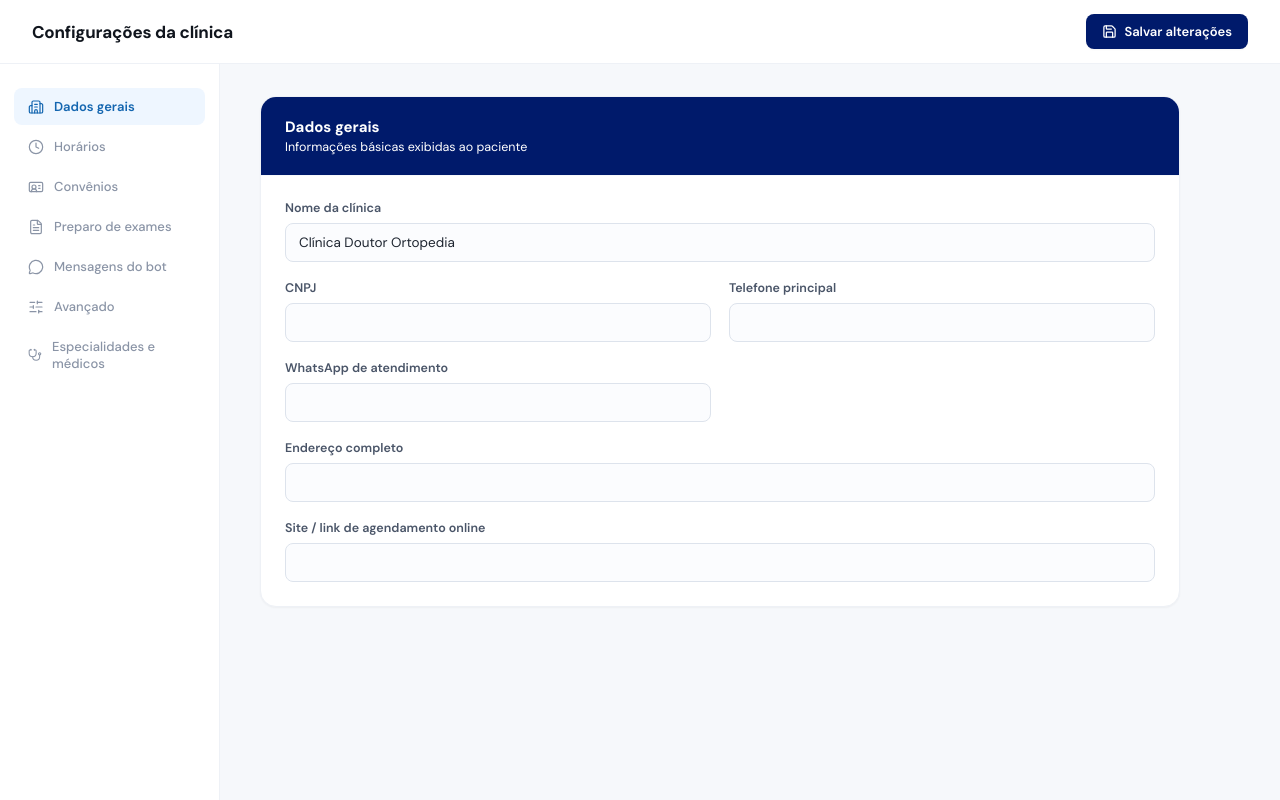
Scenario: ClinicConfig › mostra o valor da consulta de cada médico
Check: the text "Configurações da clínica" is shown, box [32, 20, 233, 42]
Click the text "Especialidades e médicos": coordinates (92, 355) [28, 338, 155, 372]
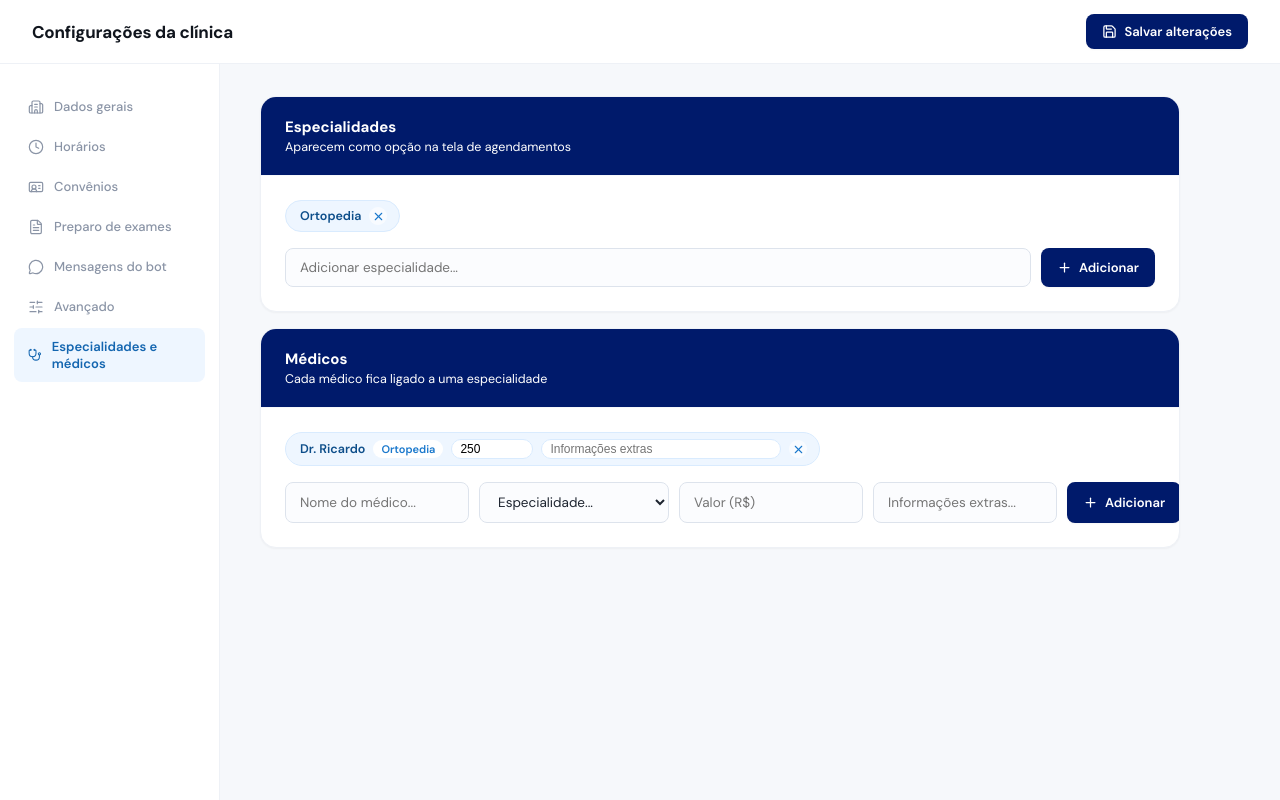
Check: the number field named "Valor da consulta de Dr. Ricardo" holds "250", box [451, 439, 533, 459]
